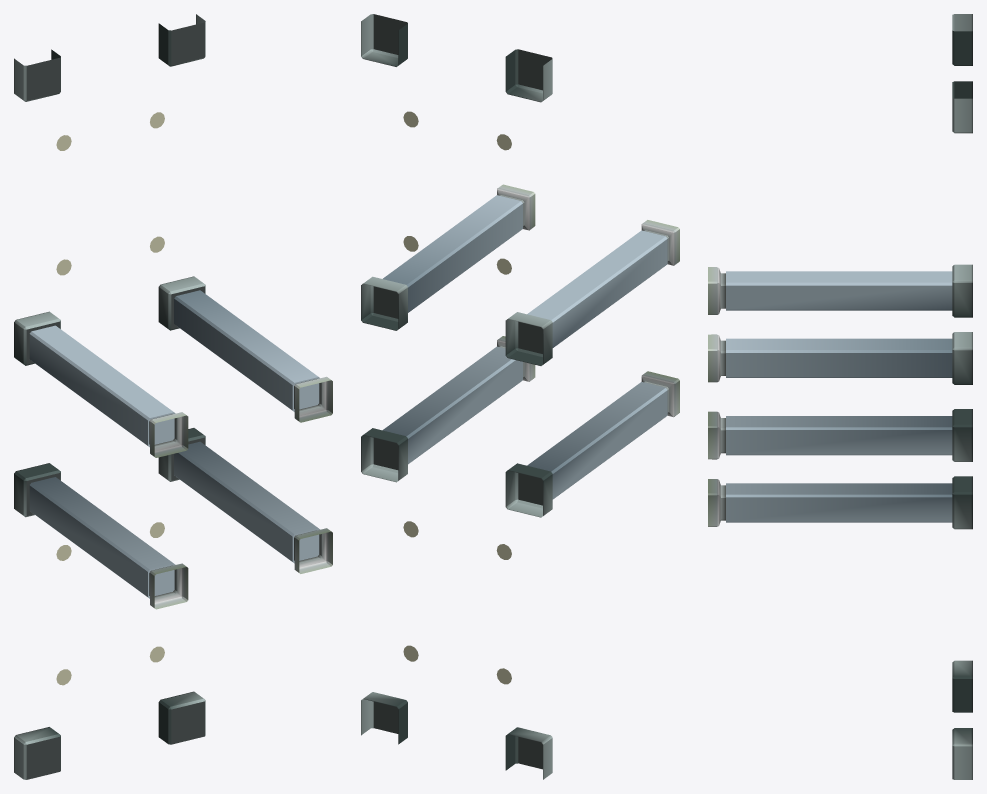
Rendered from SM_000229_w40h003_001roka_concrete01_1.fbx.
The picture shows the model from 3 angles, left to right: view 1: azimuth 30°, elevation 25°; view 2: azimuth 150°, elevation 25°; view 3: azimuth 270°, elevation 25°; orthographic projection. The views are drawn at different scales.
Visible parts, largest first — view 1: SM_000229.001; view 2: SM_000229.001; view 3: SM_000229.001.
Boxes of the visible parts, box(x1,y1,x2,y2) form: SM_000229.001: box(14, 14, 332, 779); SM_000229.001: box(361, 14, 679, 779); SM_000229.001: box(708, 14, 972, 779).
Size of the model in its own units: 3.9 by 14.62 by 5.15.
